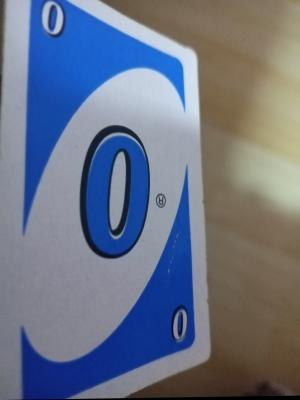blue: (23, 6, 188, 400)
num_0: (31, 1, 78, 42), (168, 303, 197, 355)
